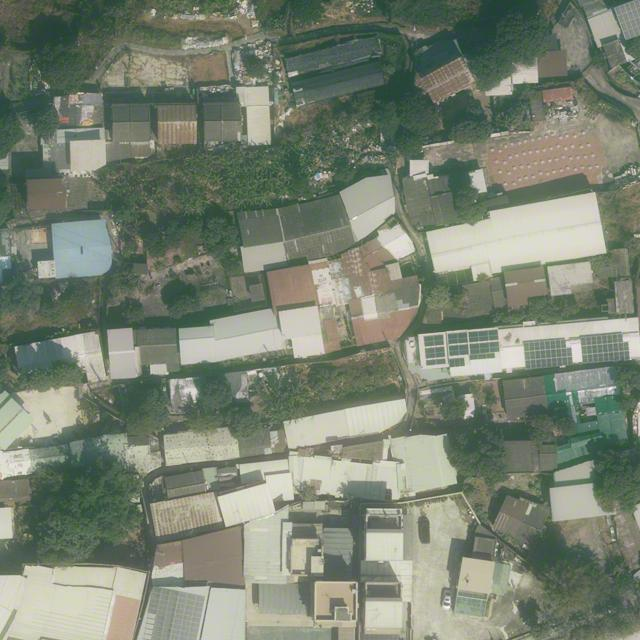panel: (581, 334, 630, 364), (524, 340, 573, 368), (448, 330, 500, 356), (424, 334, 446, 365), (449, 358, 465, 366)
